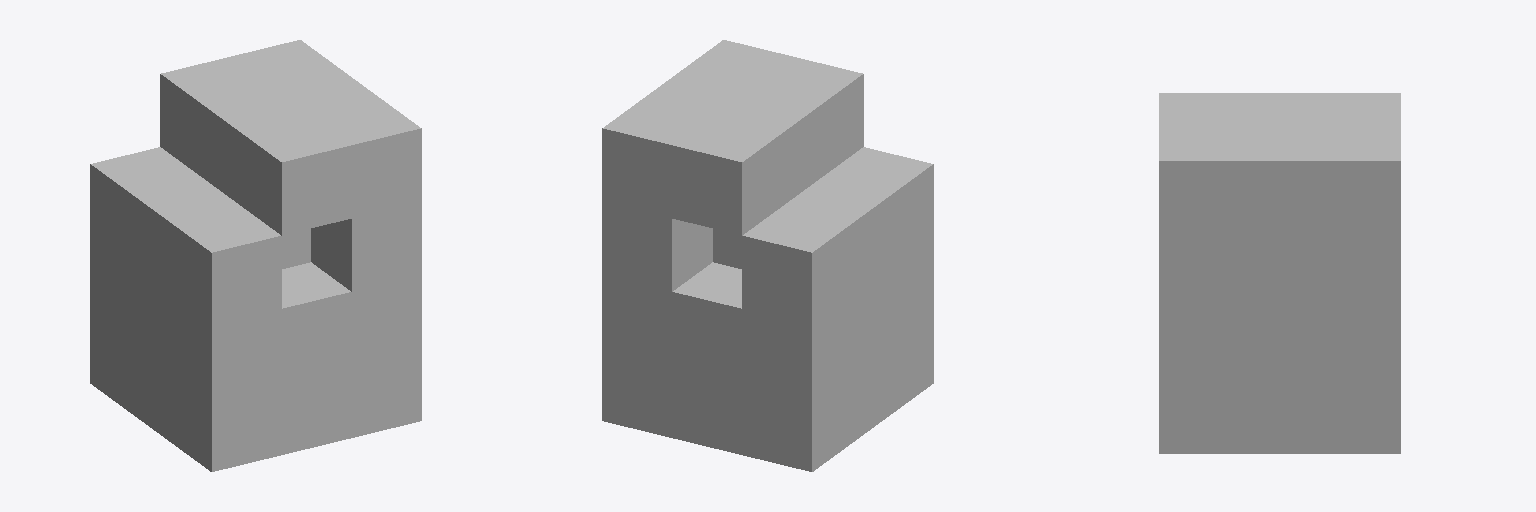
Rendered from Pez Payaso-2.obj.
3 views of the same model, side by side, from view 1: azimuth 30°, elevation 25°; view 2: azimuth 150°, elevation 25°; view 3: azimuth 270°, elevation 25° (orthographic).
Visible parts, largest first — view 1: object 1; view 2: object 1; view 3: object 1.
Boxes of the visible parts, <box> form: object 1: <box>90,40,421,471</box>; object 1: <box>602,40,933,471</box>; object 1: <box>1159,93,1400,453</box>.
Bounding box in the file's own units: 0.3 × 0.4 × 0.3.